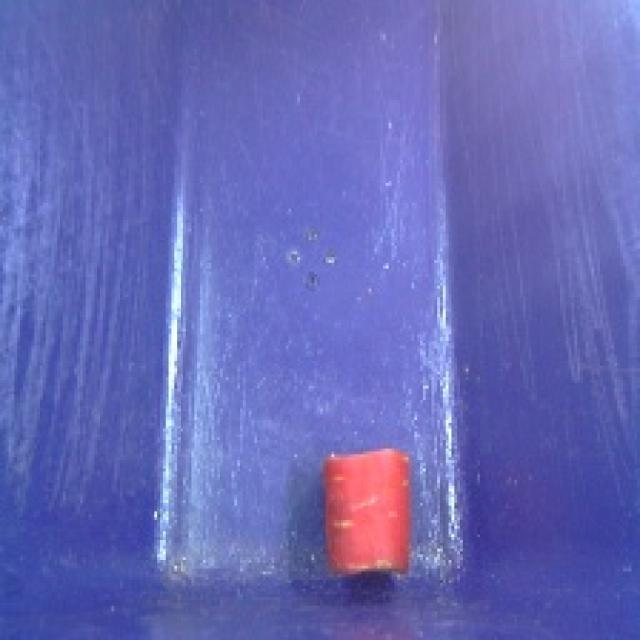carrots: (310, 438, 418, 587)
